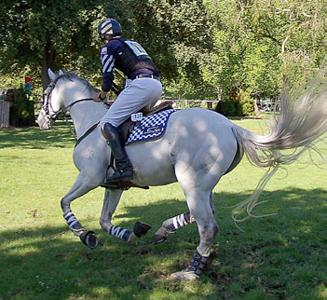person: (93, 20, 165, 186)
